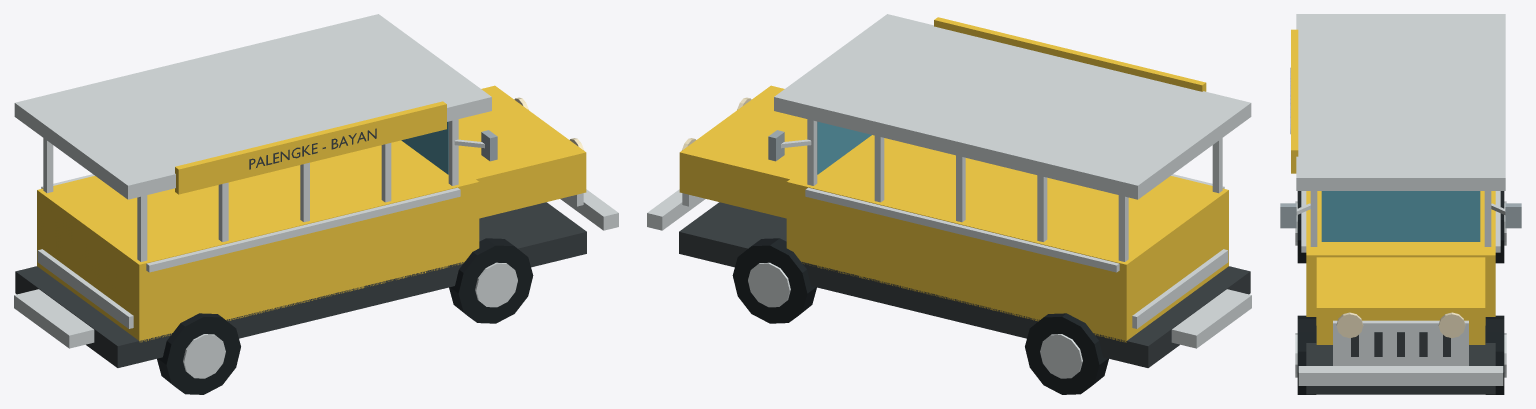
Rendered from TR_Jeepney_yellow.glb.
3 views of the same model, side by side, from view 1: azimuth 30°, elevation 25°; view 2: azimuth 150°, elevation 25°; view 3: azimuth 270°, elevation 25° (orthographic). The views are drawn at different scales.
Parts seen in each view (by area): view 1: TR_Jeepney_yellow; view 2: TR_Jeepney_yellow; view 3: TR_Jeepney_yellow.
Part boxes in pixels (x1=…): TR_Jeepney_yellow: x1=14, y1=14, x2=618, y2=394; TR_Jeepney_yellow: x1=647, y1=14, x2=1251, y2=394; TR_Jeepney_yellow: x1=1280, y1=14, x2=1521, y2=394.
Bounding box in the file's own units: 5.45 × 2.35 × 2.36.
